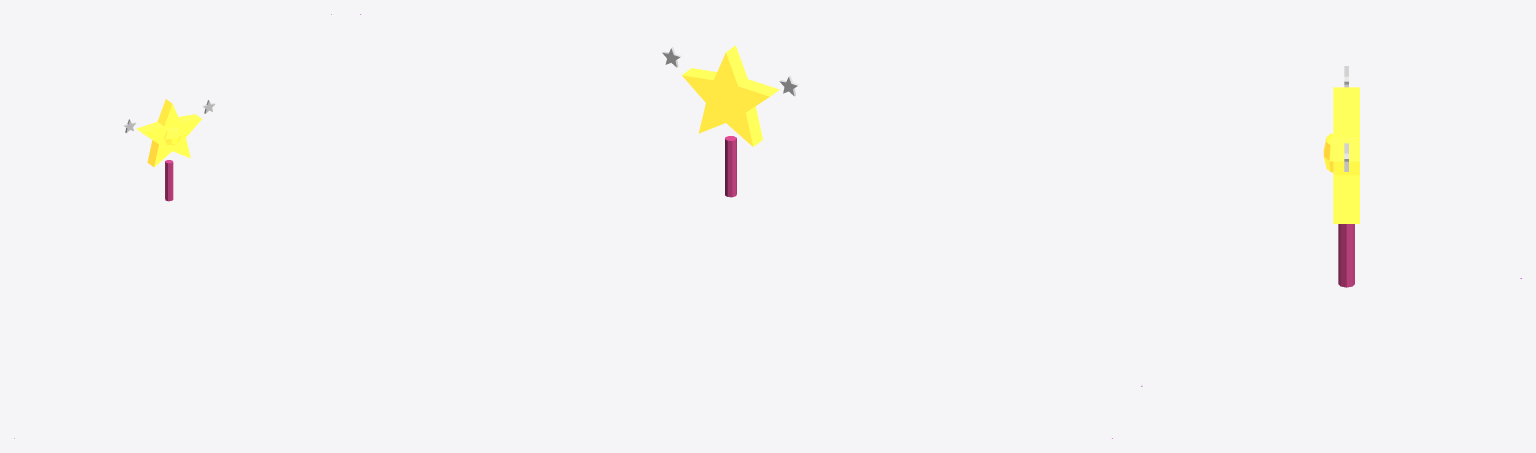
File: star_topper.fbx
3 views of the same model, side by side, from view 1: azimuth 30°, elevation 25°; view 2: azimuth 150°, elevation 25°; view 3: azimuth 270°, elevation 25° (orthographic). The views are drawn at different scales.
Visible parts, largest first — view 1: Star, Stick; view 2: Star, Stick; view 3: Star, Stick.
Boxes of the visible parts, x1,y1,x2,y2 form: Star: (136, 99, 201, 166); Stick: (165, 160, 173, 201); Star: (682, 45, 779, 146); Stick: (725, 136, 736, 197); Star: (1323, 87, 1359, 223); Stick: (1338, 224, 1354, 287).
Size of the model in its own units: 24.99 by 14.8 by 9.99.
